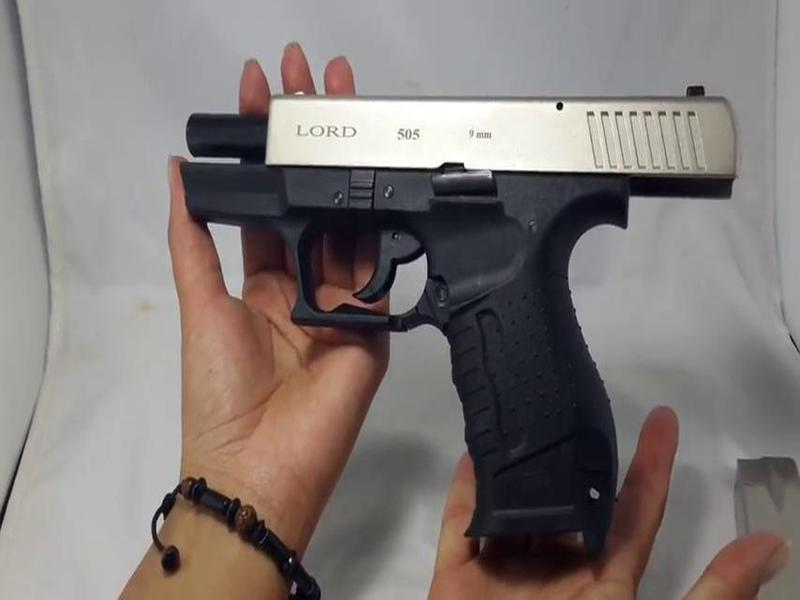Pistola: (142, 66, 767, 563)
